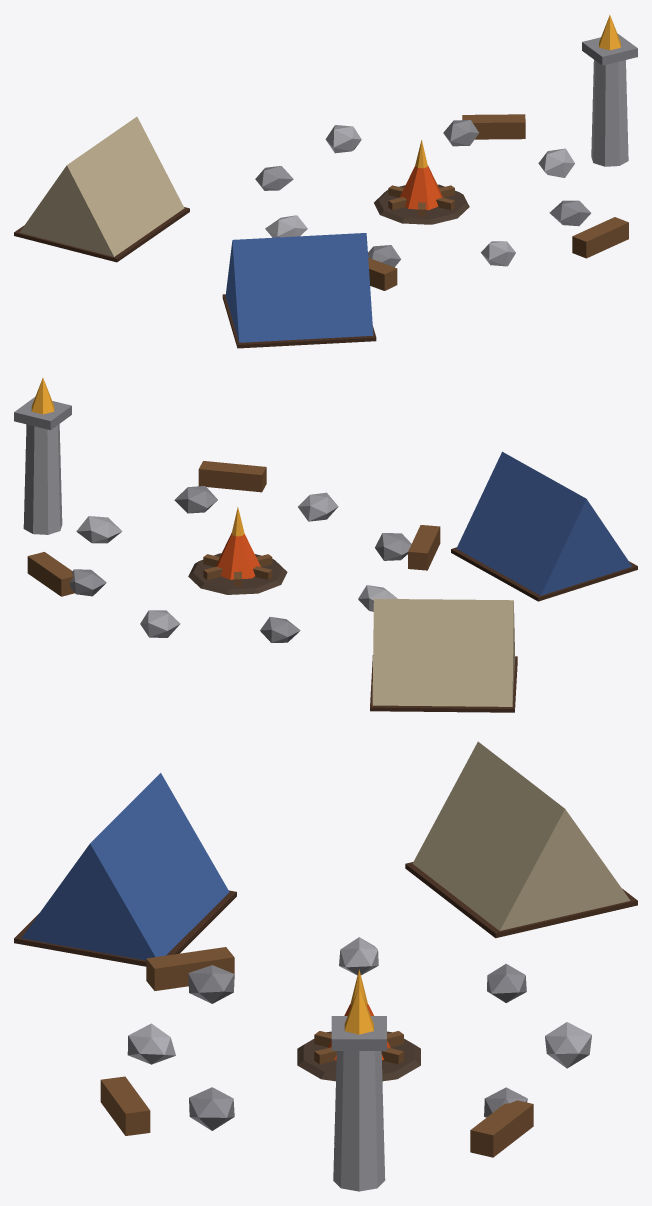
File: camp.obj
3 renders of one model, top to bottom at view 1: azimuth 30°, elevation 25°; view 2: azimuth 150°, elevation 25°; view 3: azimuth 270°, elevation 25°, orthographic. The views are drawn at different scales.
Parts seen in each view (by area): view 1: camp; view 2: camp; view 3: camp.
Part boxes in pixels (box(x1,y1,x2,y2)): camp: box(14, 15, 637, 348); camp: box(14, 378, 637, 712); camp: box(14, 741, 637, 1191).
Size of the model in its own units: 13 by 3.39 by 9.61.
